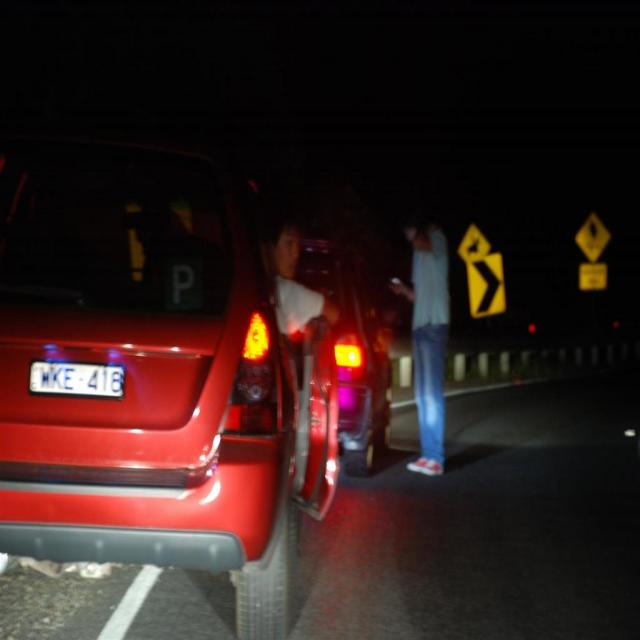other: (0, 132, 340, 639), (291, 237, 401, 477)
